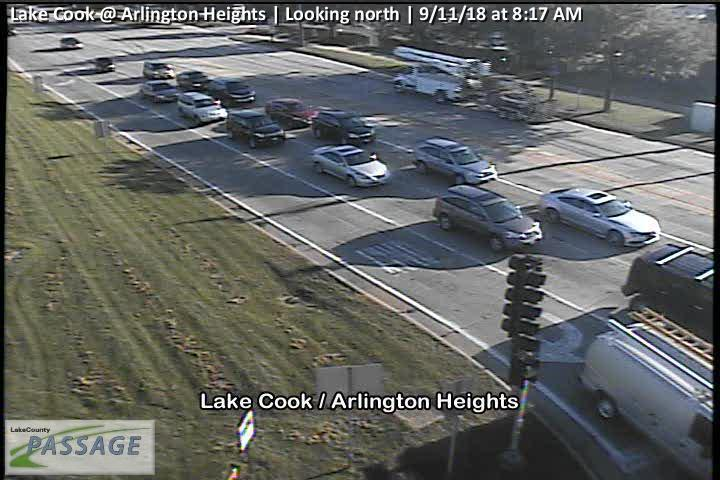SUV: (577, 305, 711, 479), (431, 184, 543, 251), (638, 243, 713, 318), (414, 136, 497, 185), (394, 61, 473, 104), (311, 109, 375, 148), (227, 109, 287, 149), (178, 90, 227, 124), (265, 98, 317, 130), (209, 76, 256, 107), (142, 59, 175, 80), (95, 57, 114, 72)
Sedan: (537, 187, 661, 248), (312, 144, 391, 187), (139, 80, 179, 103), (175, 69, 212, 91), (58, 37, 83, 50)
